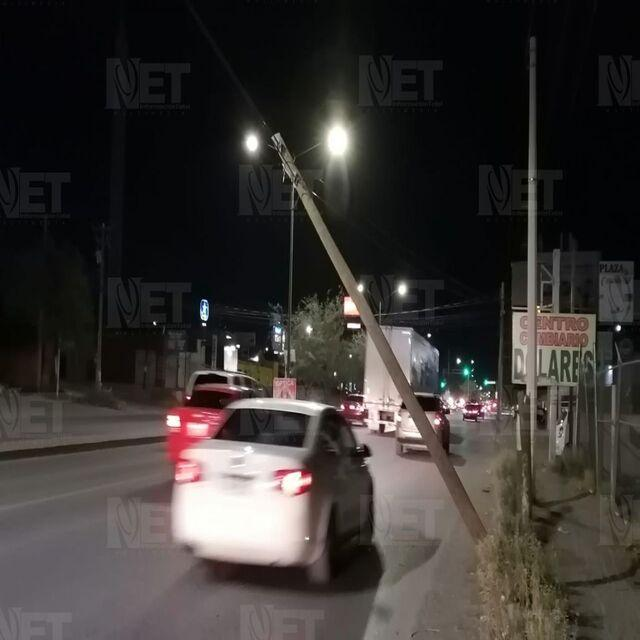Inclined Pole: (266, 130, 490, 539)
